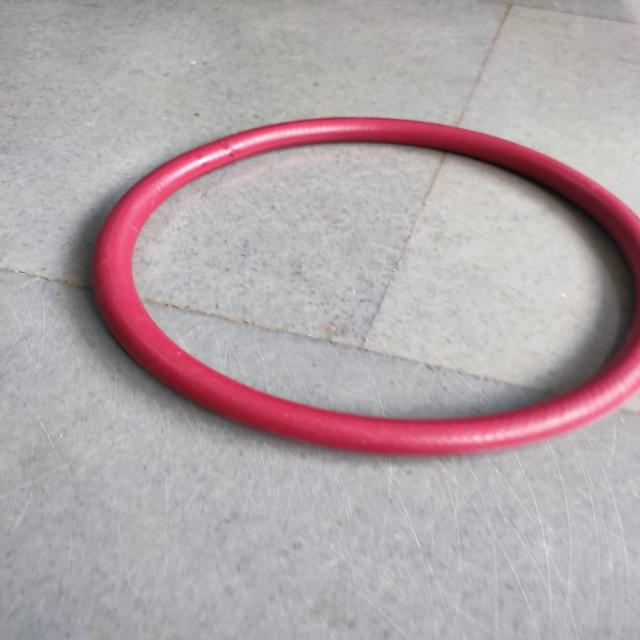daire: (98, 118, 640, 450)
